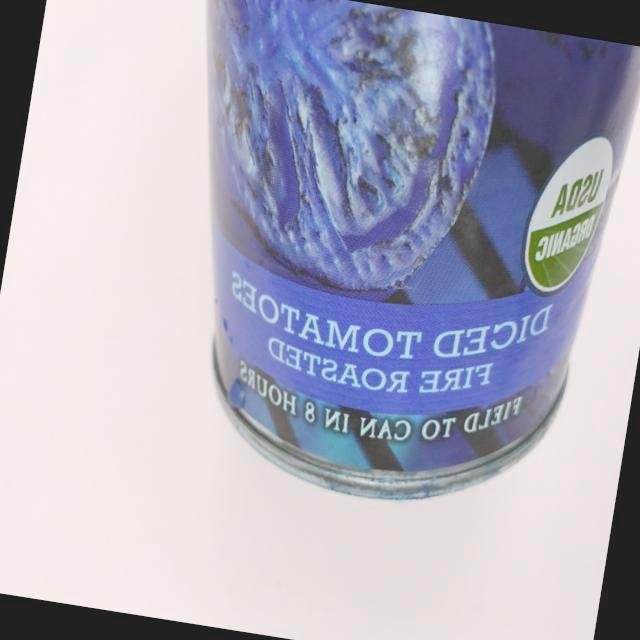metal: (118, 0, 640, 539)
